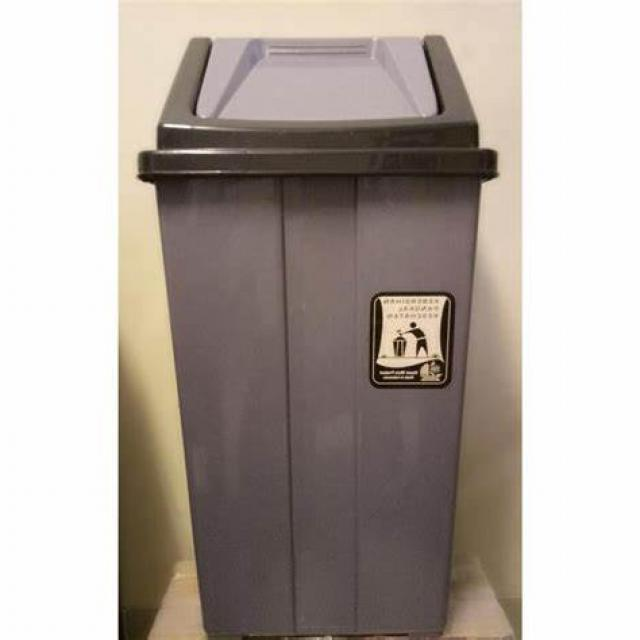garbage container: (116, 0, 522, 640)
